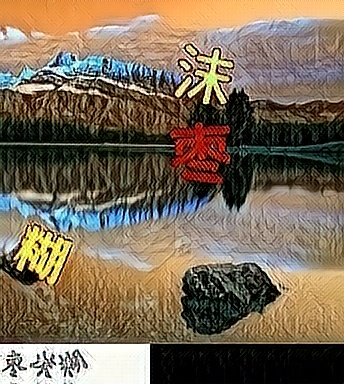BAFD: (14, 221, 76, 285)
C4AD: (173, 41, 235, 105)
D4E6: (169, 119, 231, 183)
